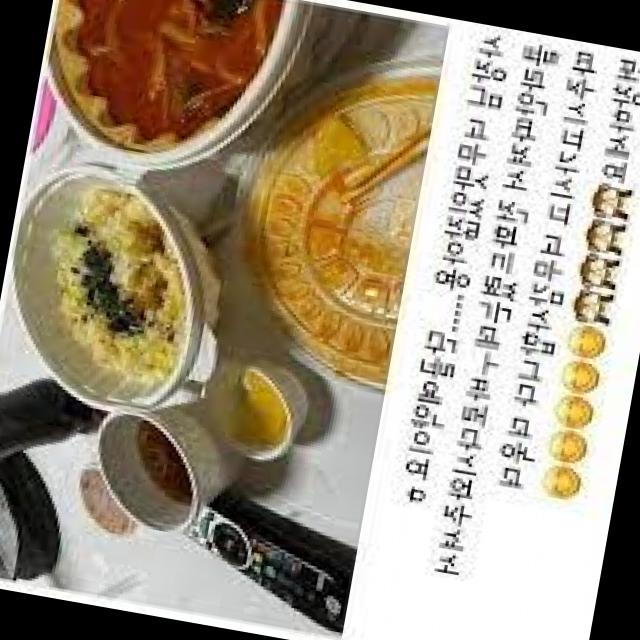plastic-bowl: (225, 46, 447, 400), (1, 147, 231, 415), (37, 0, 328, 189), (87, 403, 256, 544), (196, 357, 318, 474), (66, 458, 147, 557)
